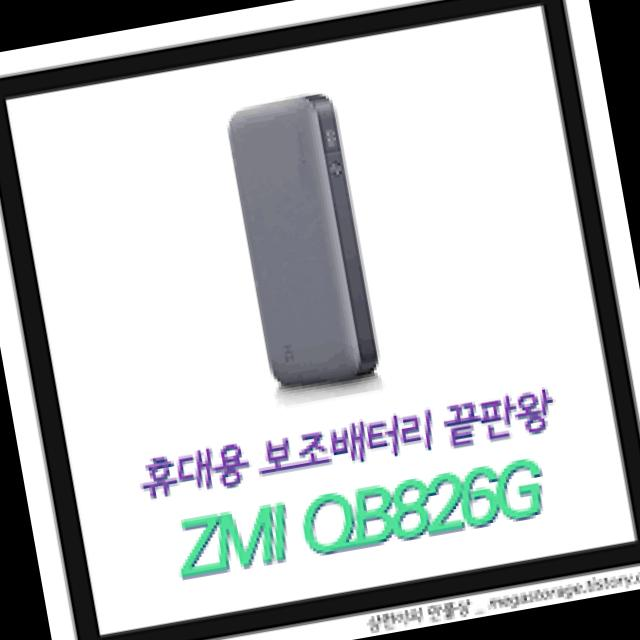portable-charger: (224, 88, 384, 400)
